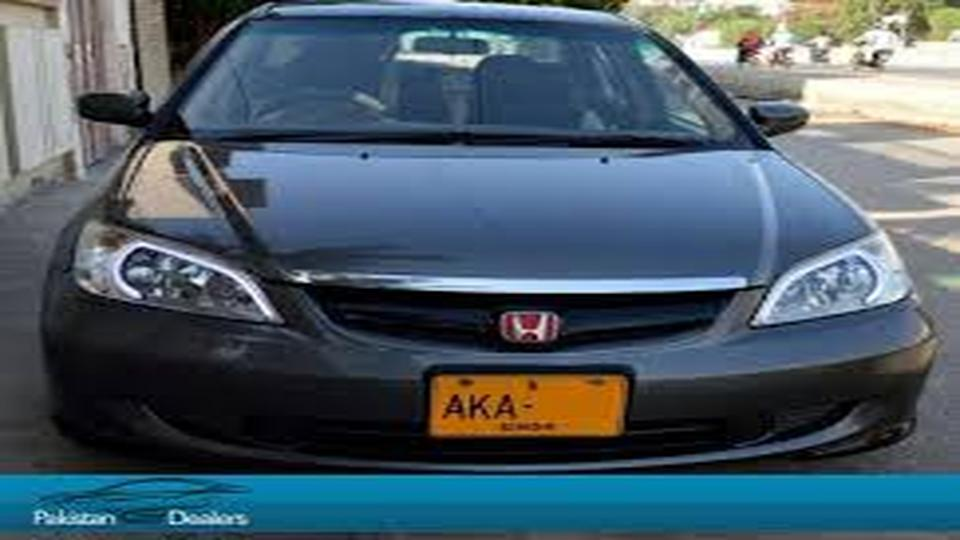NumberPlate: (425, 364, 638, 446)
